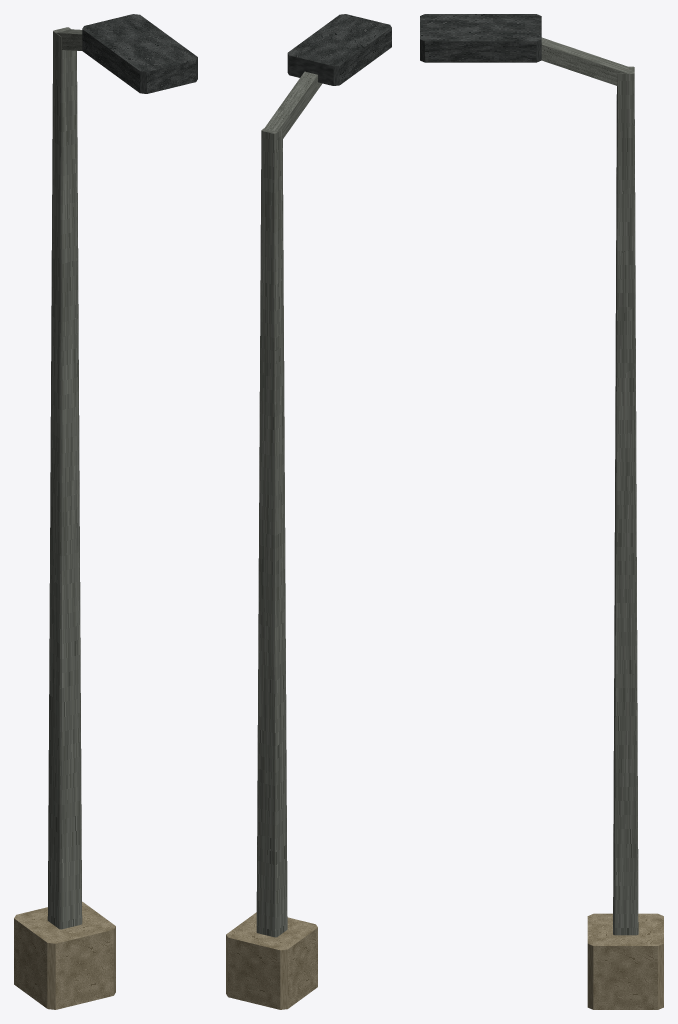
File: lamp_post.glb
3 views of the same model, side by side, from view 1: azimuth 30°, elevation 25°; view 2: azimuth 150°, elevation 25°; view 3: azimuth 270°, elevation 25° (orthographic). The views are drawn at different scales.
Visible parts, largest first — view 1: Body; view 2: Body; view 3: Body.
Boxes of the visible parts, x1=… form: Body: x1=14, y1=14, x2=197, y2=1009; Body: x1=226, y1=14, x2=391, y2=1009; Body: x1=420, y1=14, x2=663, y2=1009.
Bounding box in the file's own units: 0.39 × 5.44 × 1.24.
Materials: 1 (1 with a texture image).
